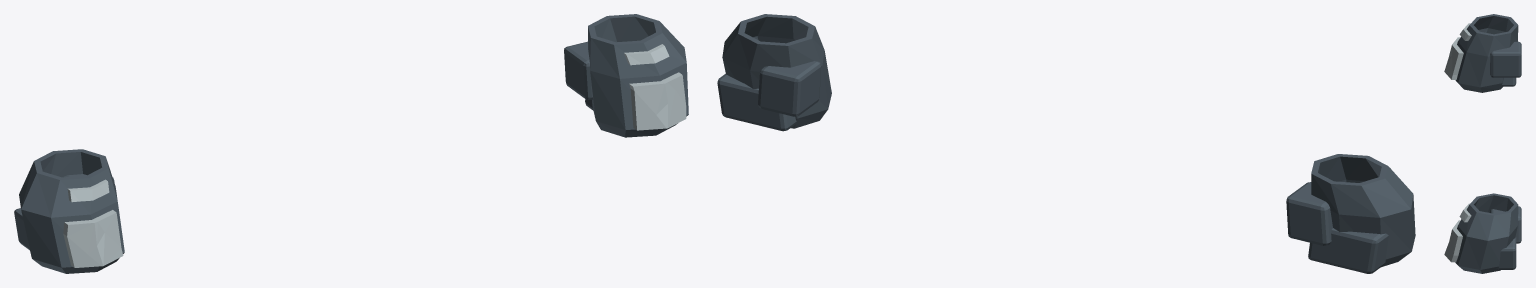
The model's file is plate_hands-female.glb.
3 views of the same model, side by side, from view 1: azimuth 30°, elevation 25°; view 2: azimuth 150°, elevation 25°; view 3: azimuth 270°, elevation 25° (orthographic). The views are drawn at different scales.
Visible parts, largest first — view 1: Block hand armor -1, Block hand armor 1, Gauntlet knuckle plate 1, Gauntlet knuckle plate -1, Block thumb armor 1, Glove turned wrist seam -1, Glove turned wrist seam 1; view 2: Block hand armor -1, Block hand armor 1, Block thumb armor 1, Block hand curl armor -1, Block thumb armor -1, Block hand curl armor 1; view 3: Block hand armor 1, Block hand armor -1, Block thumb armor -1, Gauntlet knuckle plate -1, Block hand curl armor 1, Gauntlet knuckle plate 1, Block thumb armor 1, Block hand curl armor -1, Glove turned wrist seam 1, Glove turned wrist seam -1.
Part boxes in pixels (x1=…): Block hand armor -1: x1=19, y1=149, x2=124, y2=273; Block hand armor 1: x1=588, y1=14, x2=688, y2=137; Gauntlet knuckle plate 1: x1=629, y1=72, x2=686, y2=130; Gauntlet knuckle plate -1: x1=63, y1=210, x2=123, y2=267; Block thumb armor 1: x1=564, y1=41, x2=592, y2=99; Glove turned wrist seam -1: x1=67, y1=179, x2=109, y2=202; Glove turned wrist seam 1: x1=624, y1=44, x2=669, y2=65; Block hand armor -1: x1=1311, y1=154, x2=1415, y2=267; Block hand armor 1: x1=722, y1=14, x2=831, y2=128; Block thumb armor 1: x1=758, y1=61, x2=821, y2=116; Block hand curl armor -1: x1=1308, y1=228, x2=1388, y2=273; Block thumb armor -1: x1=1286, y1=182, x2=1332, y2=245; Block hand curl armor 1: x1=717, y1=73, x2=796, y2=131; Block hand armor 1: x1=1455, y1=193, x2=1518, y2=273; Block hand armor -1: x1=1455, y1=14, x2=1518, y2=92; Block thumb armor -1: x1=1490, y1=41, x2=1521, y2=77; Gauntlet knuckle plate -1: x1=1444, y1=37, x2=1463, y2=79; Block hand curl armor 1: x1=1496, y1=236, x2=1516, y2=269; Gauntlet knuckle plate 1: x1=1444, y1=220, x2=1462, y2=262; Block thumb armor 1: x1=1490, y1=206, x2=1521, y2=243; Block hand curl armor -1: x1=1501, y1=77, x2=1516, y2=86; Glove turned wrist seam 1: x1=1459, y1=203, x2=1471, y2=222; Glove turned wrist seam -1: x1=1459, y1=23, x2=1471, y2=40.
Bounding box in the file's own units: 4.05 × 0.5018 × 0.6162.
